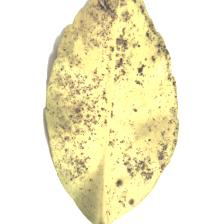canker: (79, 5, 162, 110)
